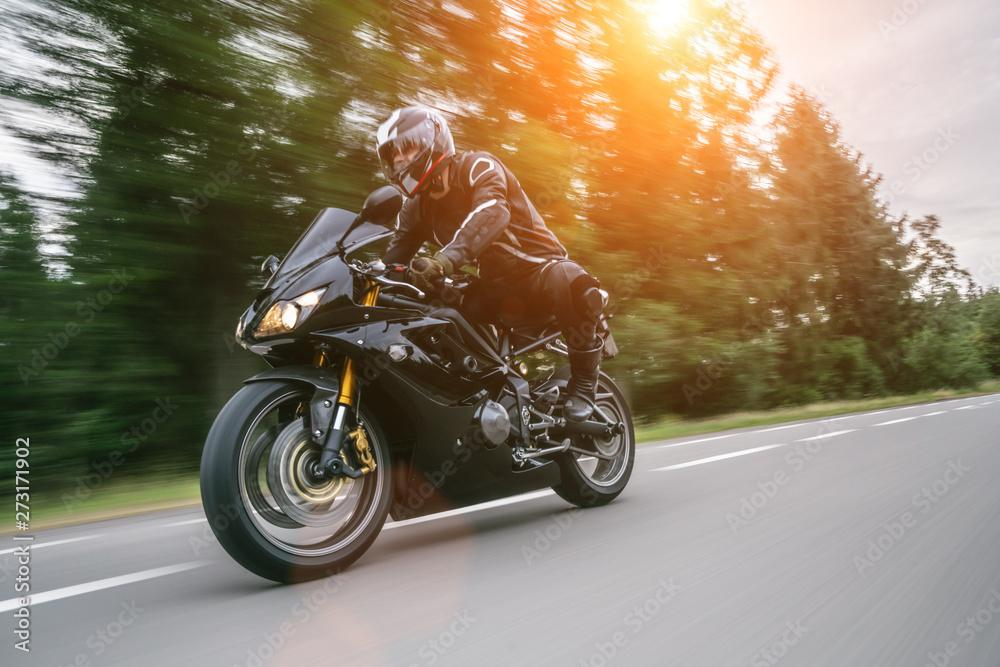helmet: (375, 105, 457, 200)
